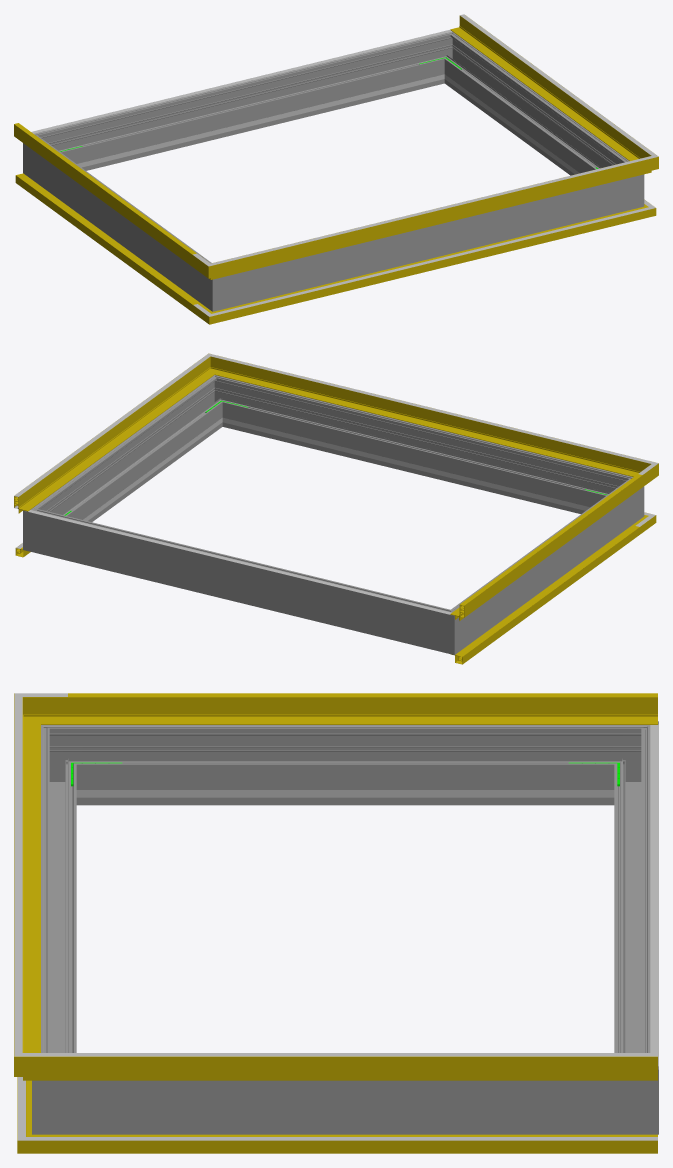
3 renders of one model, top to bottom at view 1: azimuth 30°, elevation 25°; view 2: azimuth 150°, elevation 25°; view 3: azimuth 270°, elevation 25°, orthographic. The views are drawn at different scales.
Parts seen in each view (by area): view 1: 3DGeom-276, 3DGeom-298, 3DGeom-297, 3DGeom-56, 3DGeom-268, 3DGeom-11, 3DGeom-58, 3DGeom-50, 3DGeom-6, 3DGeom-244, 3DGeom-270, 3DGeom-220 (+12 smaller); view 2: 3DGeom-298, 3DGeom-276, 3DGeom-297, 3DGeom-56, 3DGeom-268, 3DGeom-58, 3DGeom-50, 3DGeom-6, 3DGeom-278, 3DGeom-239, 3DGeom-220, 3DGeom-284 (+9 smaller); view 3: 3DGeom-268, 3DGeom-297, 3DGeom-50, 3DGeom-58, 3DGeom-276, 3DGeom-16, 3DGeom-298, 3DGeom-56, 3DGeom-232, 3DGeom-284, 3DGeom-290, 3DGeom-220 (+9 smaller).
Boxes of the visible parts, x1=… form: 3DGeom-276: x1=54, y1=37, x2=439, y2=170; 3DGeom-298: x1=240, y1=181, x2=615, y2=304; 3DGeom-297: x1=447, y1=41, x2=622, y2=175; 3DGeom-56: x1=234, y1=163, x2=630, y2=274; 3DGeom-268: x1=39, y1=143, x2=205, y2=299; 3DGeom-11: x1=234, y1=211, x2=627, y2=317; 3DGeom-58: x1=450, y1=15, x2=637, y2=160; 3DGeom-50: x1=14, y1=124, x2=192, y2=266; 3DGeom-6: x1=15, y1=173, x2=200, y2=312; 3DGeom-244: x1=87, y1=81, x2=417, y2=165; 3DGeom-270: x1=196, y1=258, x2=240, y2=311; 3DGeom-220: x1=31, y1=30, x2=451, y2=133; 3DGeom-298: x1=227, y1=380, x2=613, y2=513; 3DGeom-276: x1=51, y1=513, x2=431, y2=647; 3DGeom-297: x1=44, y1=385, x2=219, y2=521; 3DGeom-56: x1=229, y1=362, x2=627, y2=474; 3DGeom-268: x1=462, y1=487, x2=627, y2=642; 3DGeom-58: x1=14, y1=366, x2=206, y2=513; 3DGeom-50: x1=450, y1=475, x2=642, y2=620; 3DGeom-6: x1=451, y1=525, x2=639, y2=664; 3DGeom-278: x1=426, y1=602, x2=470, y2=654; 3DGeom-239: x1=249, y1=424, x2=579, y2=509; 3DGeom-220: x1=28, y1=510, x2=451, y2=614; 3DGeom-284: x1=23, y1=500, x2=55, y2=556; 3DGeom-268: x1=85, y1=725, x2=605, y2=805; 3DGeom-297: x1=85, y1=1080, x2=605, y2=1134; 3DGeom-50: x1=67, y1=697, x2=657, y2=724; 3DGeom-58: x1=67, y1=1056, x2=657, y2=1080; 3DGeom-276: x1=614, y1=744, x2=650, y2=1052; 3DGeom-16: x1=71, y1=1134, x2=657, y2=1153; 3DGeom-298: x1=41, y1=744, x2=76, y2=1052; 3DGeom-56: x1=14, y1=716, x2=40, y2=1052; 3DGeom-232: x1=128, y1=790, x2=562, y2=797; 3DGeom-284: x1=605, y1=1047, x2=658, y2=1134; 3DGeom-290: x1=32, y1=1047, x2=85, y2=1134; 3DGeom-220: x1=650, y1=724, x2=658, y2=1066.
Bounding box in the file's own units: 2.44 × 0.307 × 1.83.
